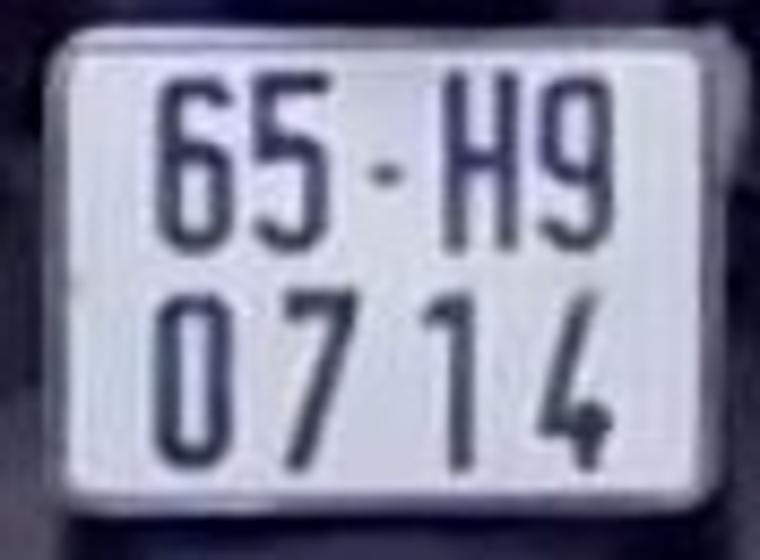-: (365, 167, 402, 187)
0: (154, 294, 230, 462)
1: (426, 290, 482, 476)
4: (540, 292, 617, 471)
5: (251, 75, 332, 255)
6: (154, 74, 233, 252)
7: (280, 280, 356, 467)
9: (539, 71, 616, 252)
H: (439, 67, 516, 258)
